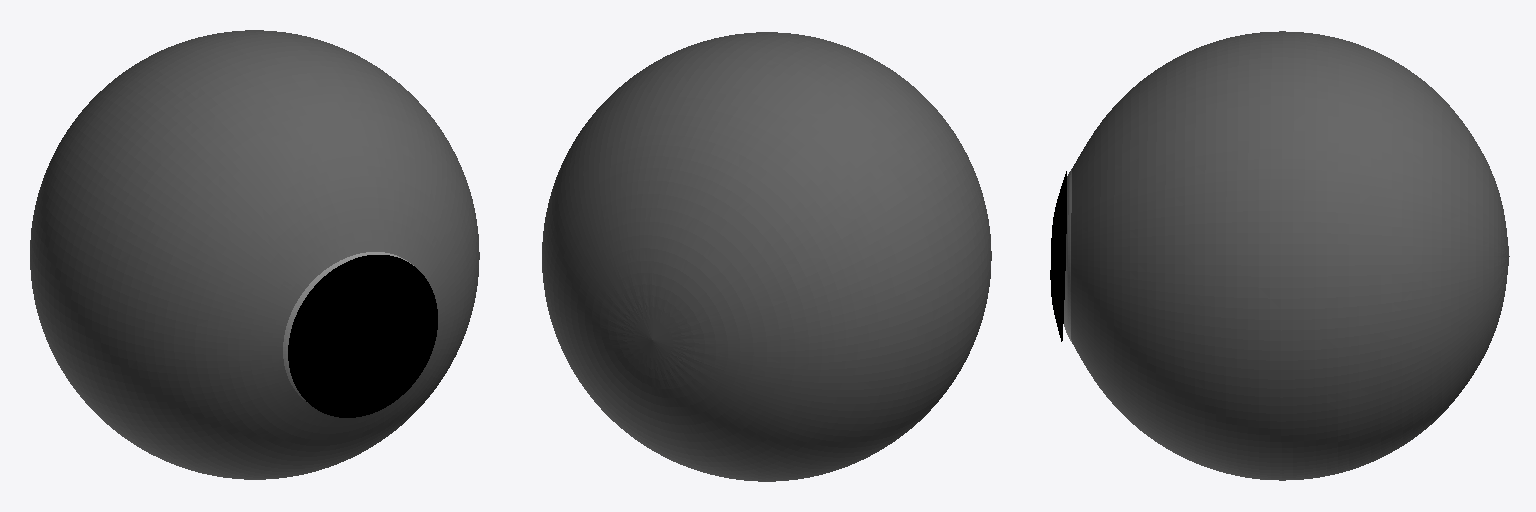
Rendered from yanzhuzi.obj.
3 views of the same model, side by side, from view 1: azimuth 30°, elevation 25°; view 2: azimuth 150°, elevation 25°; view 3: azimuth 270°, elevation 25° (orthographic).
Parts seen in each view (by area): view 1: eyeball_1_eye_002, eyeball_1_001_eye_1_001, eyeball_1_003_eye_1_003; view 2: eyeball_1_eye_002; view 3: eyeball_1_eye_002, eyeball_1_001_eye_1_001, eyeball_1_003_eye_1_003.
Boxes of the visible parts, <box> form: eyeball_1_eye_002: <box>30,30,479,479</box>; eyeball_1_001_eye_1_001: <box>288,255,437,417</box>; eyeball_1_003_eye_1_003: <box>283,252,413,402</box>; eyeball_1_eye_002: <box>542,32,991,481</box>; eyeball_1_eye_002: <box>1071,31,1509,480</box>; eyeball_1_001_eye_1_001: <box>1050,171,1066,341</box>; eyeball_1_003_eye_1_003: <box>1064,169,1071,341</box>.
Bounding box in the file's own units: 3.86 × 3.86 × 3.94.